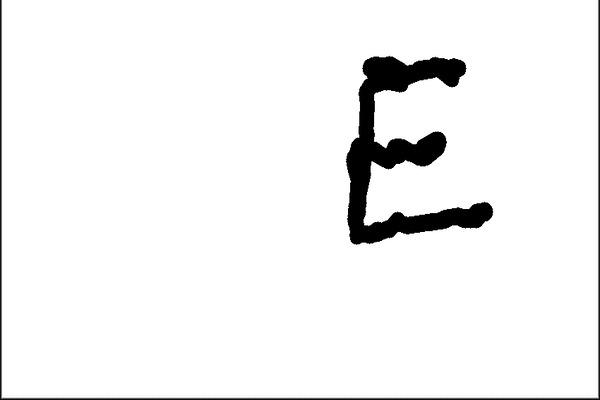E: (341, 52, 496, 247)
